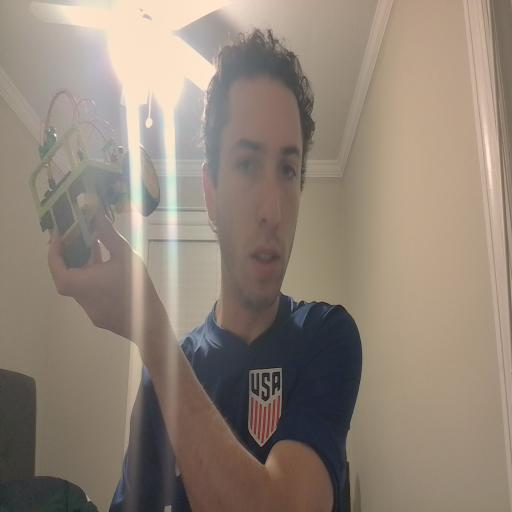green LEGO minifig: (38, 124, 58, 162)
